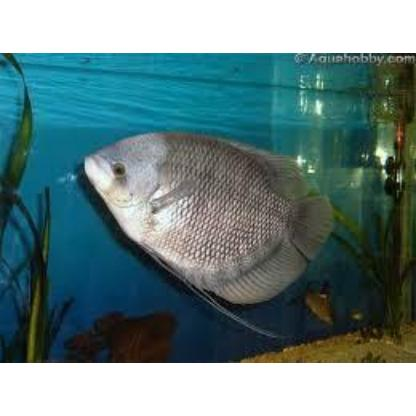gurame: (84, 128, 334, 334)
